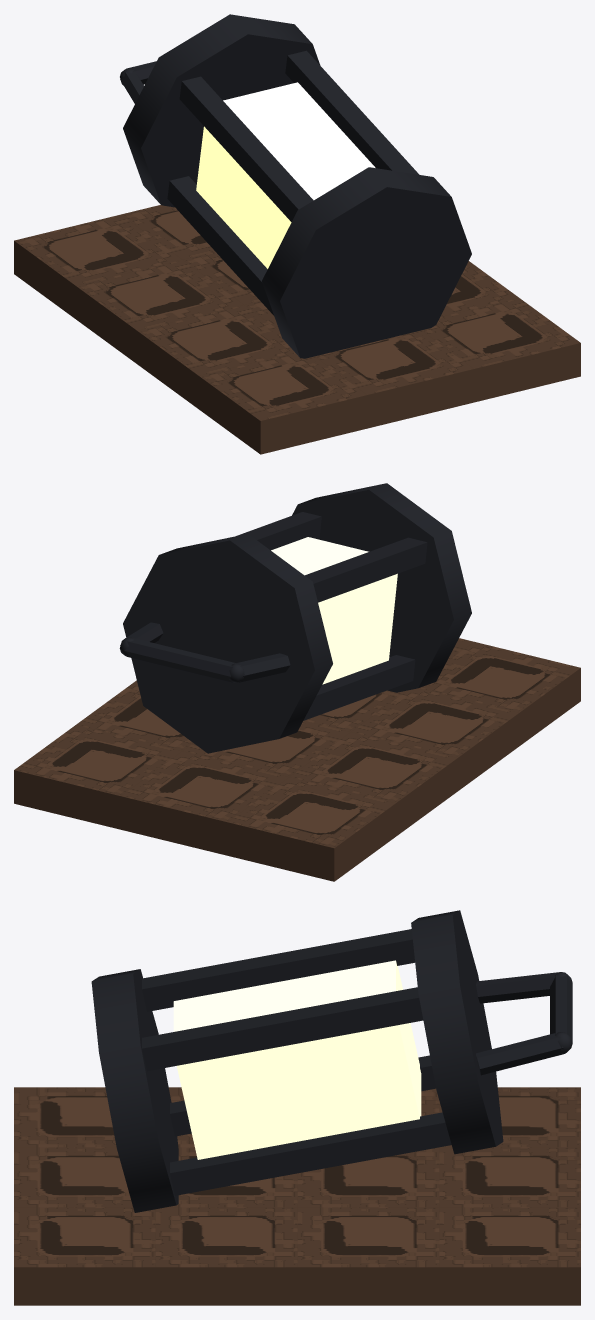
The model's file is SunkenLantern.fbx.
3 renders of one model, top to bottom at view 1: azimuth 30°, elevation 25°; view 2: azimuth 150°, elevation 25°; view 3: azimuth 270°, elevation 25°, orthographic. The views are drawn at different scales.
Visible parts, largest first — view 1: SunkenLantern, SunkenLantern_Glow; view 2: SunkenLantern, SunkenLantern_Glow; view 3: SunkenLantern, SunkenLantern_Glow.
Boxes of the visible parts, x1,y1,x2,y2 form: SunkenLantern: (14, 14, 580, 454); SunkenLantern_Glow: (196, 82, 375, 268); SunkenLantern: (14, 483, 580, 881); SunkenLantern_Glow: (271, 537, 397, 684); SunkenLantern: (14, 910, 580, 1305); SunkenLantern_Glow: (173, 960, 421, 1159).
Bounding box in the file's own units: 300 × 234 × 400.
2 materials, 1 textured.
